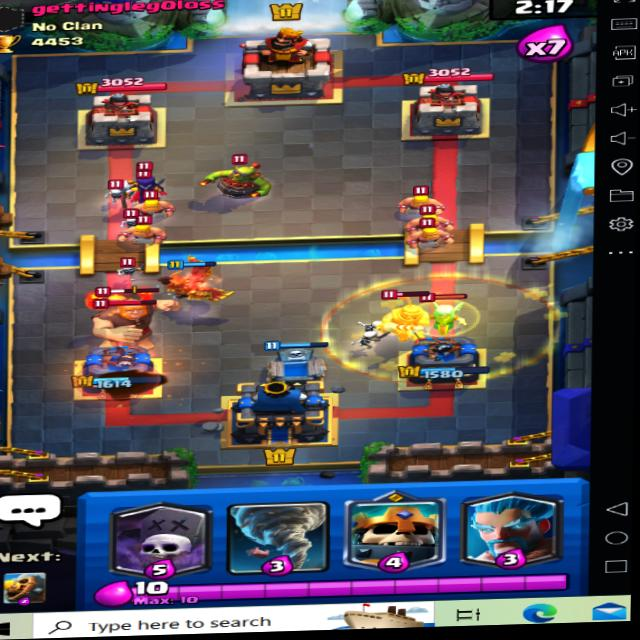Barbarian: (119, 191, 182, 218), (399, 182, 452, 214), (115, 218, 163, 251), (404, 217, 452, 250), (403, 209, 459, 235)
Battlehealer: (409, 287, 479, 332)
Giant: (81, 288, 174, 347)
Goblindemolisher: (200, 153, 284, 205)
Prince: (382, 289, 451, 343)
Skeleton: (122, 190, 155, 215), (102, 180, 126, 200), (117, 259, 140, 277), (115, 214, 142, 229)
witch: (118, 165, 177, 209)
